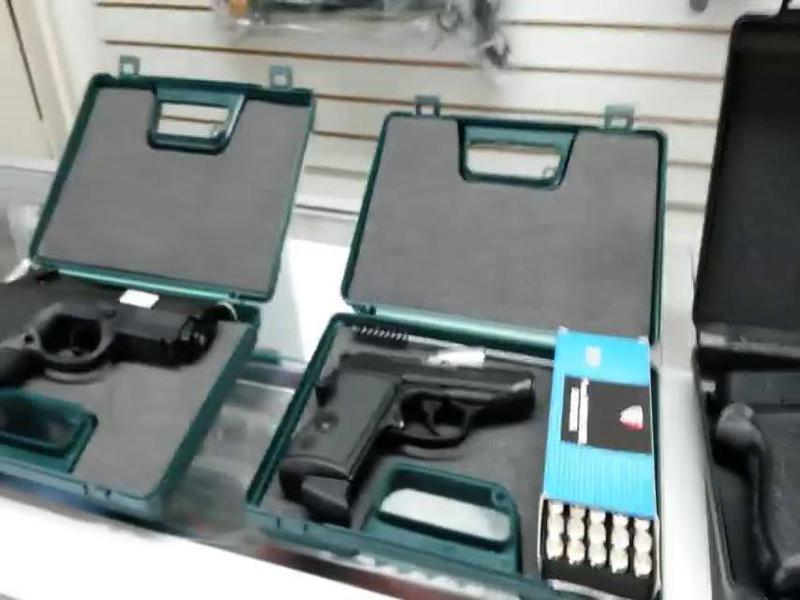Pistola: (258, 341, 558, 528)
